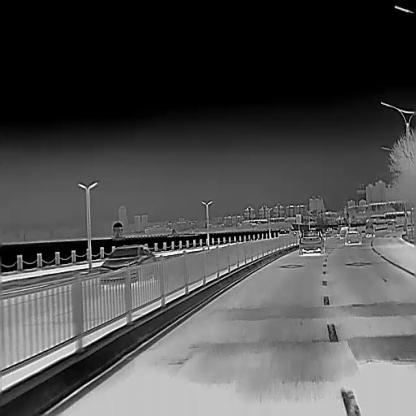car: (99, 244, 157, 284), (297, 229, 324, 254), (346, 226, 362, 244), (365, 222, 375, 236), (339, 226, 346, 238), (324, 229, 332, 237)
